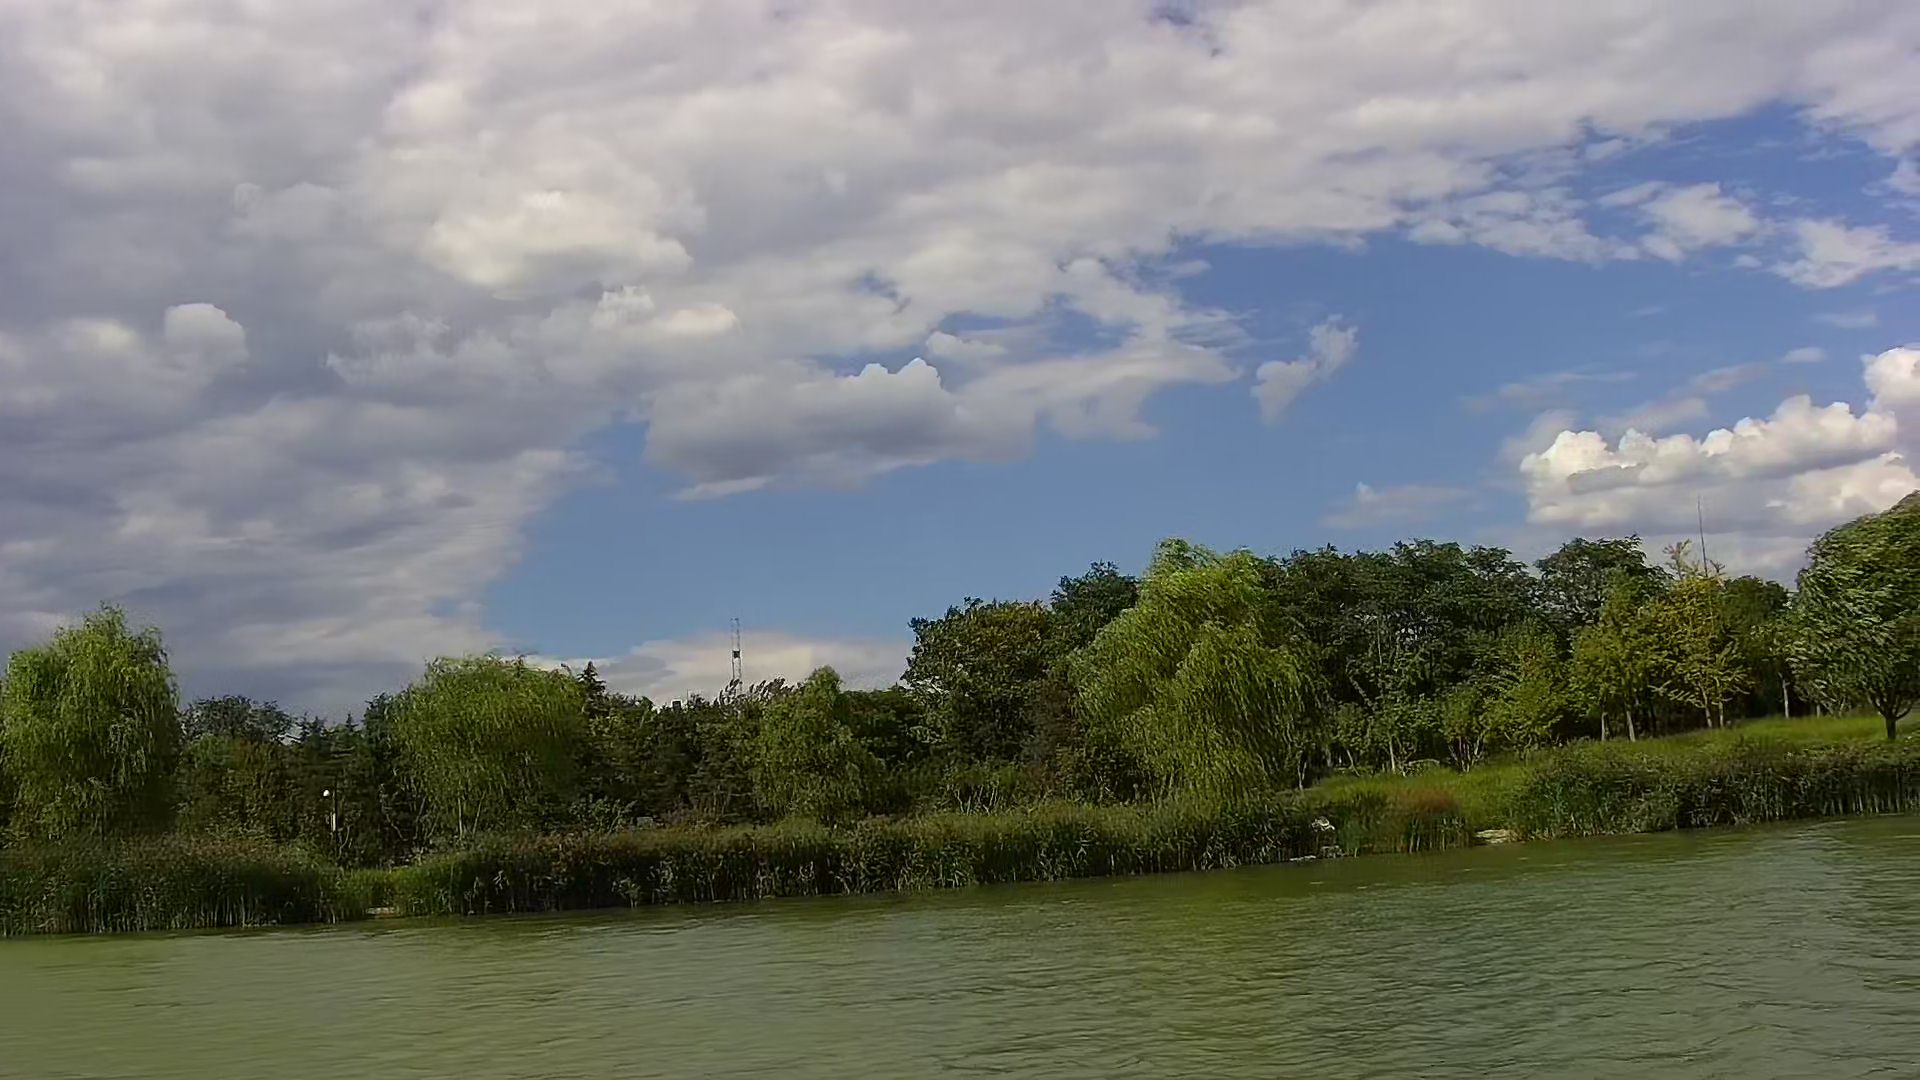rock: (1476, 829, 1513, 851)
